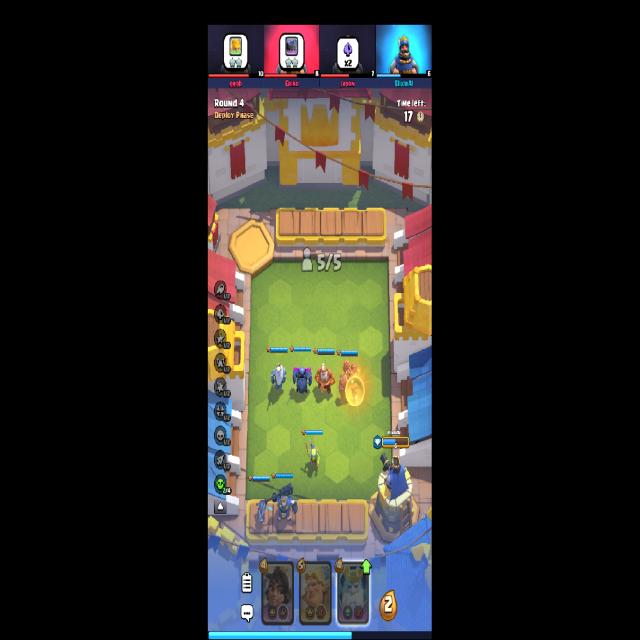card_golden_knight: (299, 560, 332, 626)
card_princess: (262, 560, 294, 624)
card_royal_ghost: (337, 559, 369, 624)
goblin_machine: (340, 361, 360, 396)
monk: (315, 363, 336, 394)
musketeer: (256, 498, 274, 526)
pekka: (290, 367, 314, 394)
royal_ghost: (271, 362, 287, 390)
skeleton_king: (265, 483, 298, 522)
spear_goblin: (304, 441, 320, 468)
